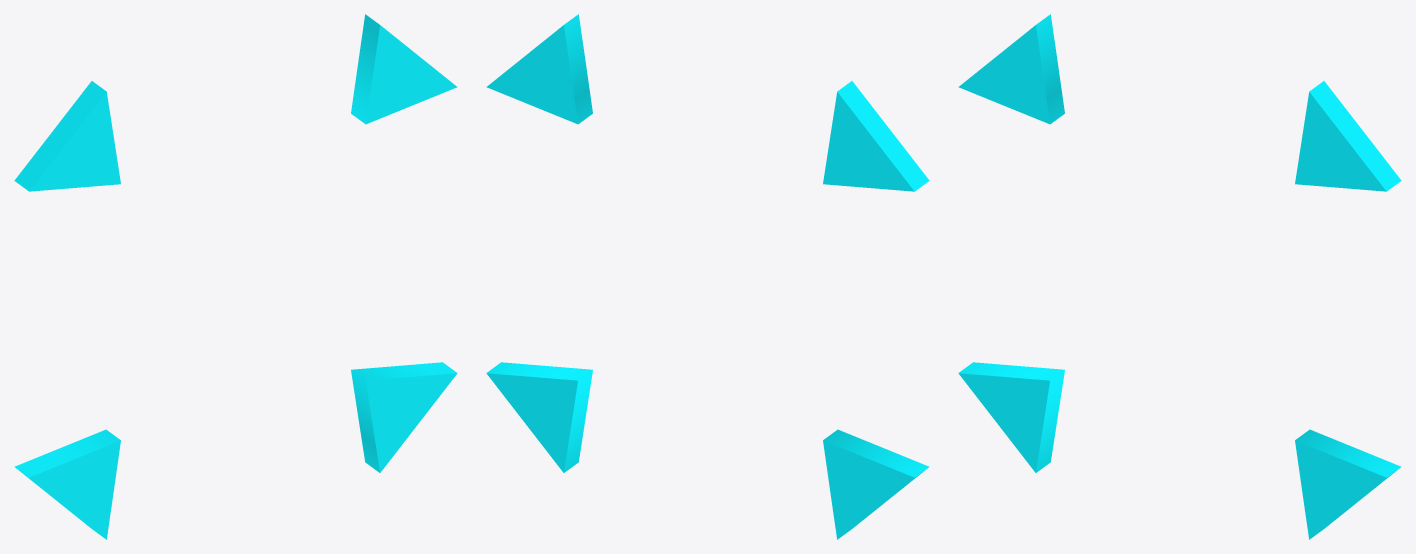
The model's file is SM_Hud_Reticle_07.glb.
3 views of the same model, side by side, from view 1: azimuth 30°, elevation 25°; view 2: azimuth 150°, elevation 25°; view 3: azimuth 330°, elevation 25° (orthographic).
Parts seen in each view (by area): view 1: SM_Hud_Reticle_07; view 2: SM_Hud_Reticle_07; view 3: SM_Hud_Reticle_07.
Boxes of the visible parts, bbox=[...] form: SM_Hud_Reticle_07: bbox=[14, 14, 457, 539]; SM_Hud_Reticle_07: bbox=[486, 14, 929, 539]; SM_Hud_Reticle_07: bbox=[958, 14, 1401, 539].
Size of the model in its own units: 0.2781 by 0.2781 by 0.0168.
